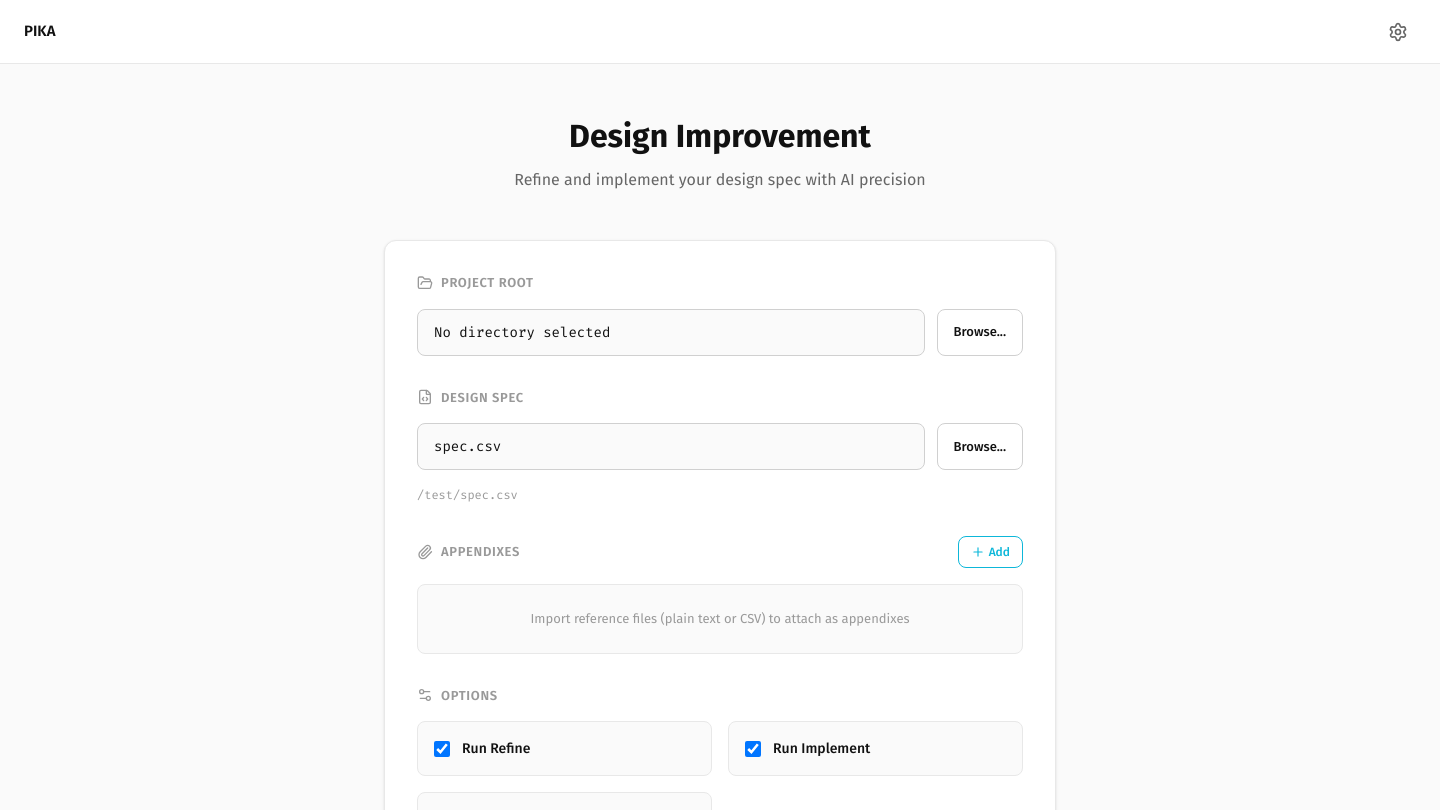
Test: EntryScreen › Appendixes section › Add button opens file dialog and adds text appendix
Click the button "Add": [990, 552] box [958,536,1023,568]
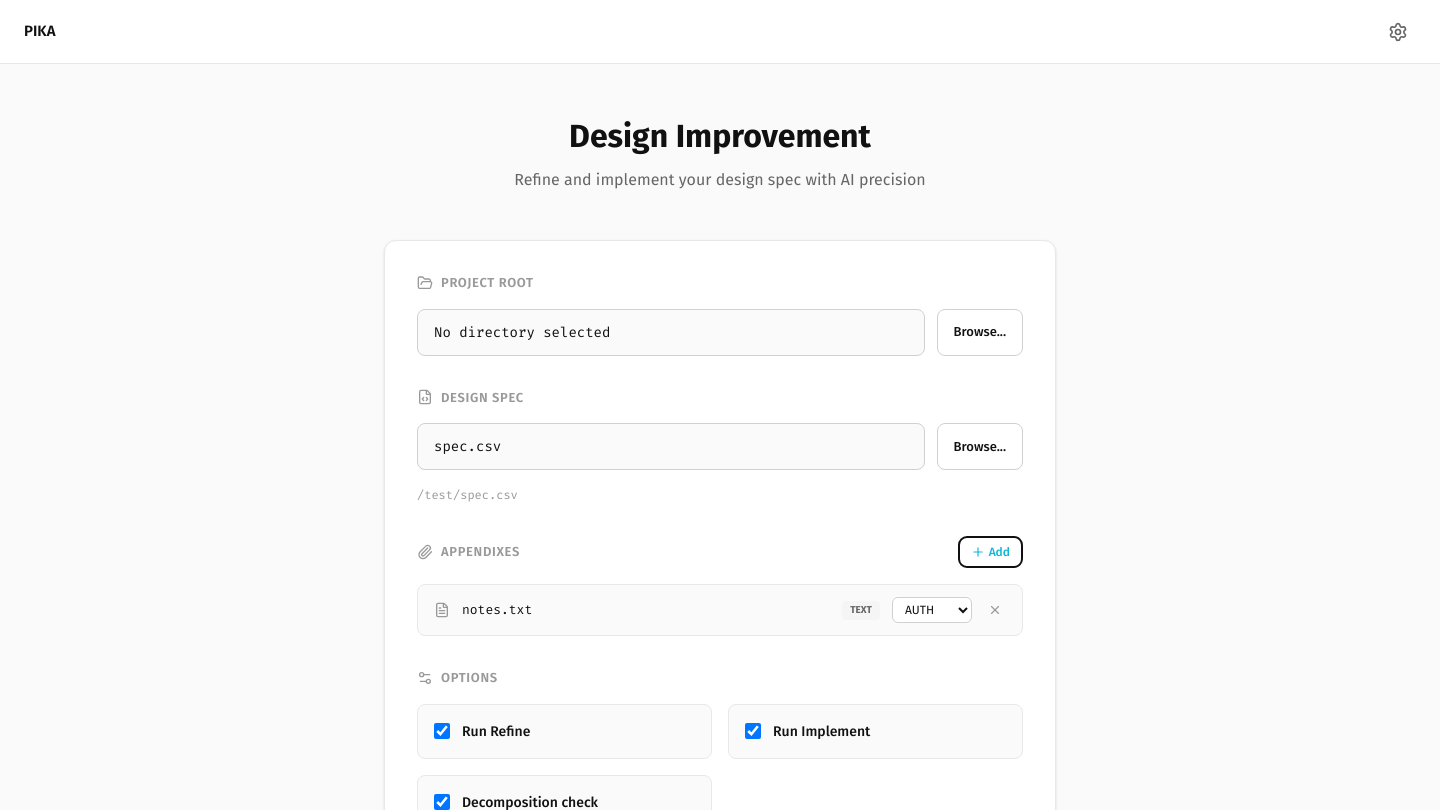
Expected: the text "notes.txt" is shown, [462,601,532,618]
